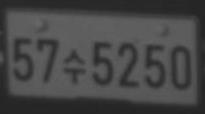0: (169, 45, 192, 89)
2: (116, 42, 141, 88)
5: (143, 43, 166, 89), (90, 41, 114, 85), (12, 37, 35, 81)
7: (36, 38, 59, 83)
수: (62, 48, 87, 84)
